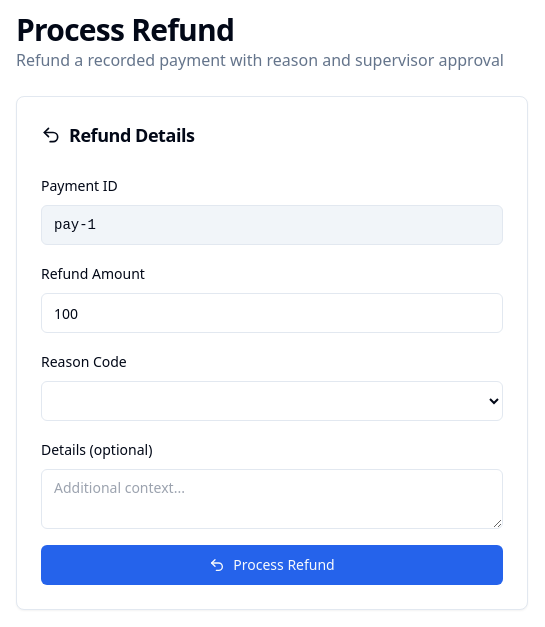
Test: RefundPage — Backend Constraint UI › shows success confirmation after approved refund
This screenshot has width=545, height=627.
Click the button "Process Refund" at point(272, 565), box [41, 545, 503, 585]
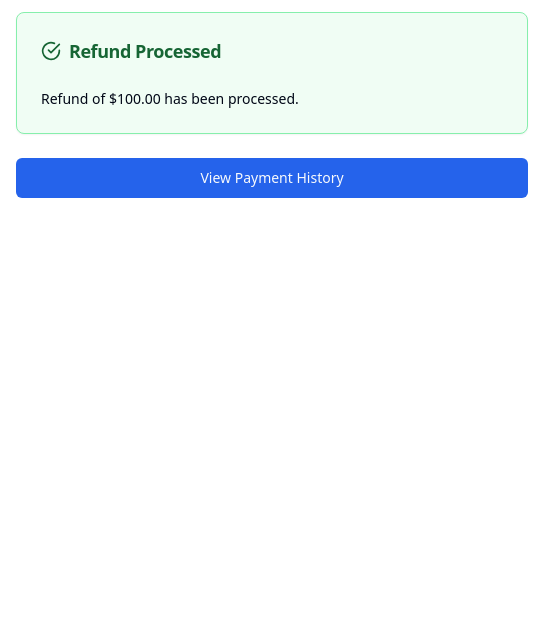
Check: the heading "Refund Processed" is shown, box [41, 39, 221, 63]
